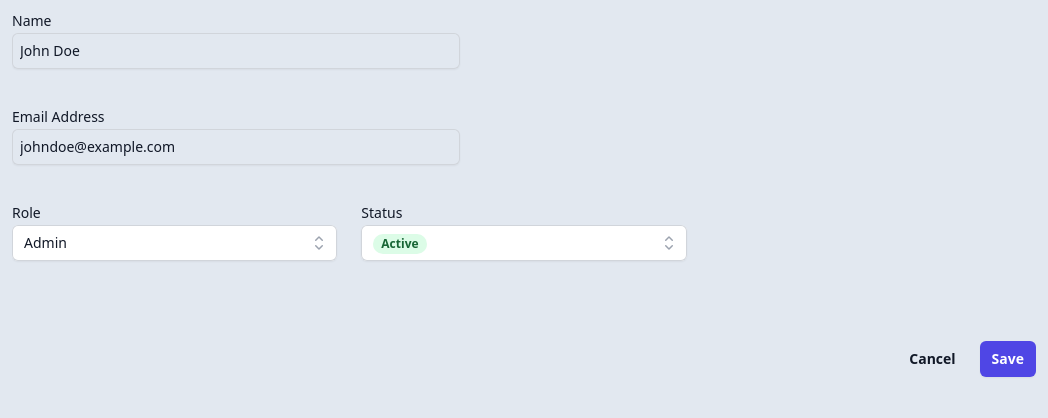
Test: EditUserForm › should display error message when email is invalid
The width and height of the screenshot is (1048, 418).
Replace the text in the field labelled "Email Address" with "invalid-email": [236, 147] box [12,129,460,165]
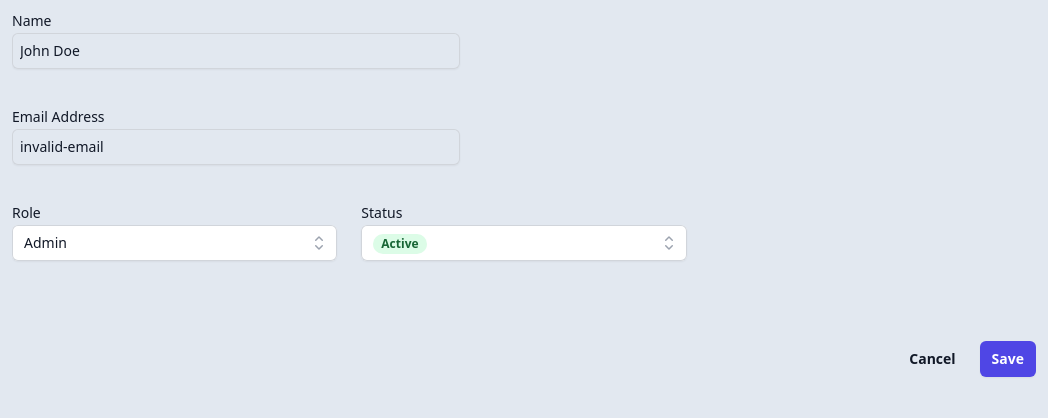
Submit the form from the button "Save", box [980,341,1036,377]
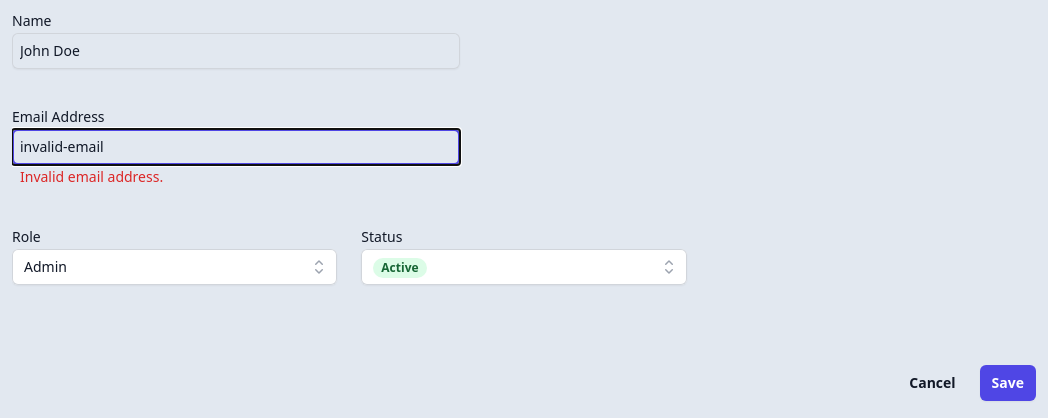
Now the text "Invalid email address." is shown, box [20,167,163,186]
